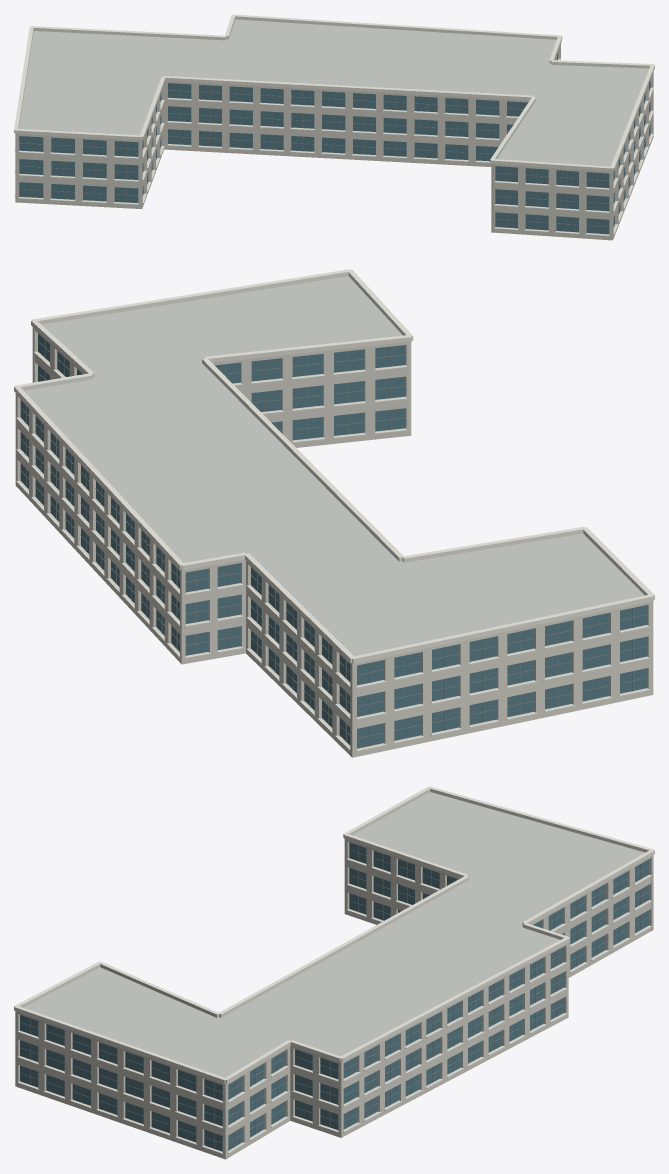
The picture shows the model from 3 angles, top to bottom: view 1: azimuth 30°, elevation 25°; view 2: azimuth 150°, elevation 25°; view 3: azimuth 270°, elevation 25°; orthographic projection. The views are drawn at different scales.
Visible parts, largest first — view 1: roof, wall, glass, trim, metal; view 2: roof, wall, glass, trim, metal; view 3: roof, wall, glass, trim, metal.
Boxes of the visible parts, x1,y1,x2,y2 form: roof: (18,19,648,166); wall: (15,43,653,240); glass: (19,53,650,234); trim: (14,14,654,236); metal: (19,51,650,233); roof: (24,276,644,656); wall: (15,327,653,757); glass: (20,333,647,748); trim: (14,269,654,751); metal: (20,339,647,745); roof: (23,792,645,1077); wall: (15,839,653,1159); glass: (20,842,648,1151); trim: (14,786,654,1154); metal: (19,845,649,1148).
Bounding box in the file's own units: 76.95 × 9.74 × 70.93.
